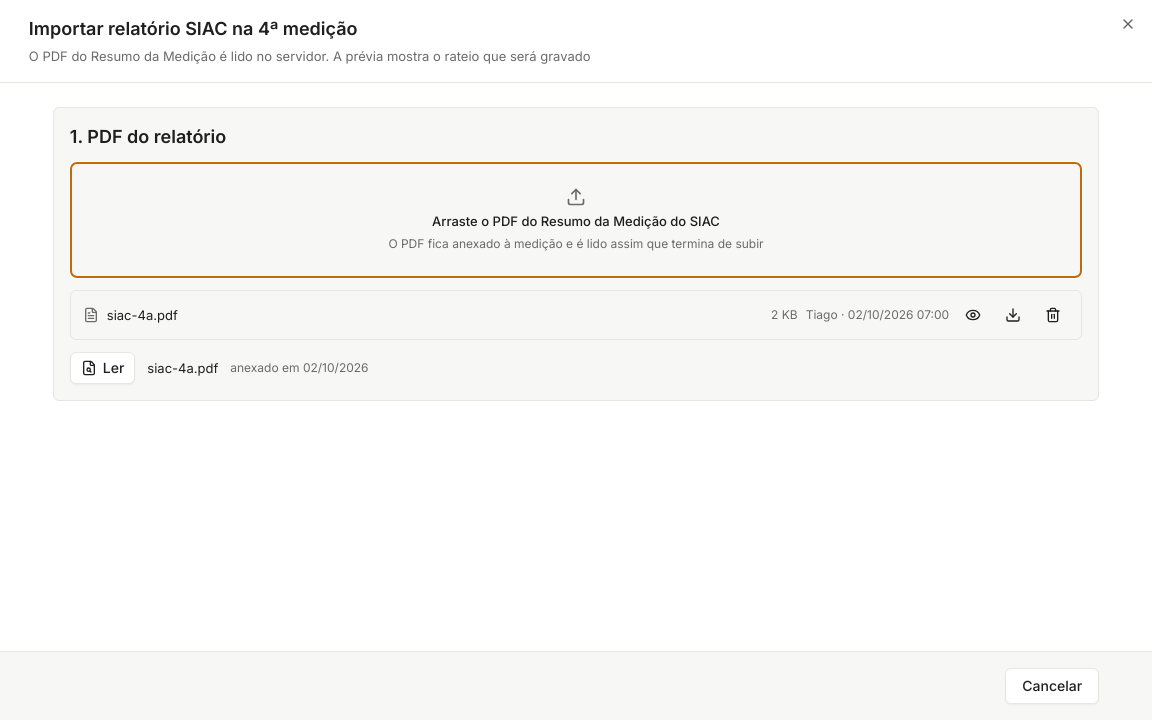
Scenario: ImportarSiacDrawer › prévia: cabeçalho lido, aviso, Conferir na 2,2/51269 e o rateio 1,26 no 02.07.05
The image size is (1152, 720).
Click the button with aria-label "Ler siac-4a.pdf".
click(103, 368)  # box [70,352,135,384]
(page scrolled)
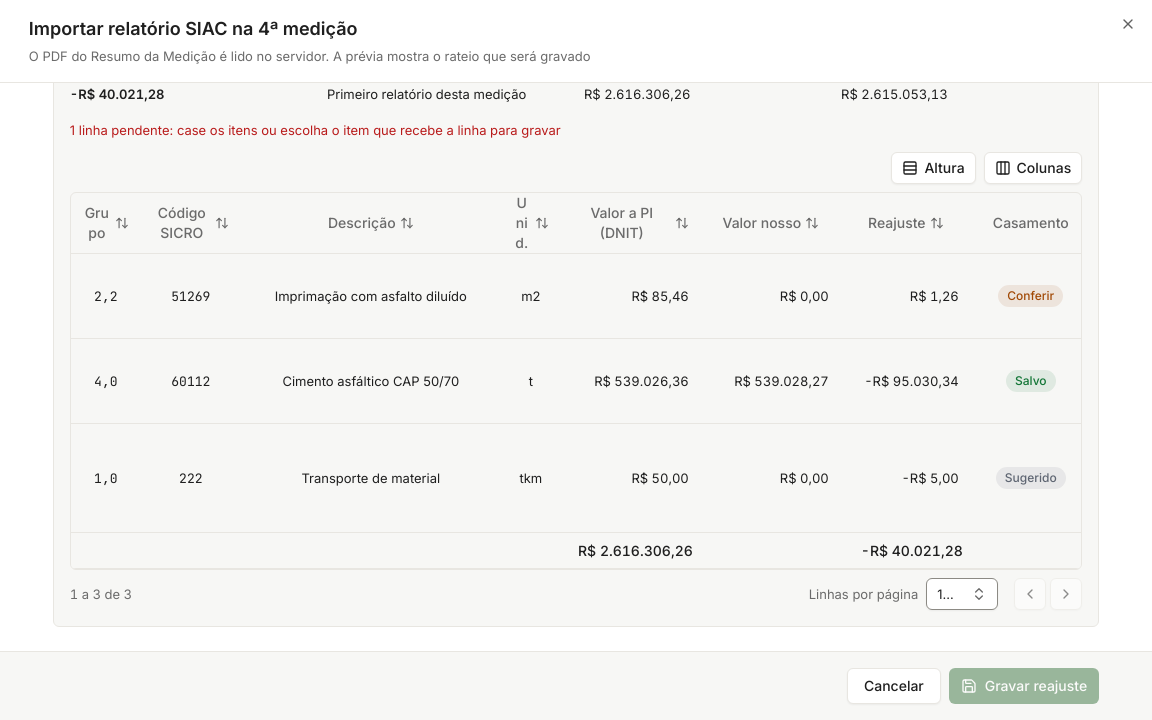
Expected: the text "Conferir" is shown, [998,285,1063,307]
Expected: the text "Salvo" is shown, [1006,370,1056,392]
Expected: the text "Sugerido" is shown, [996,467,1066,489]
